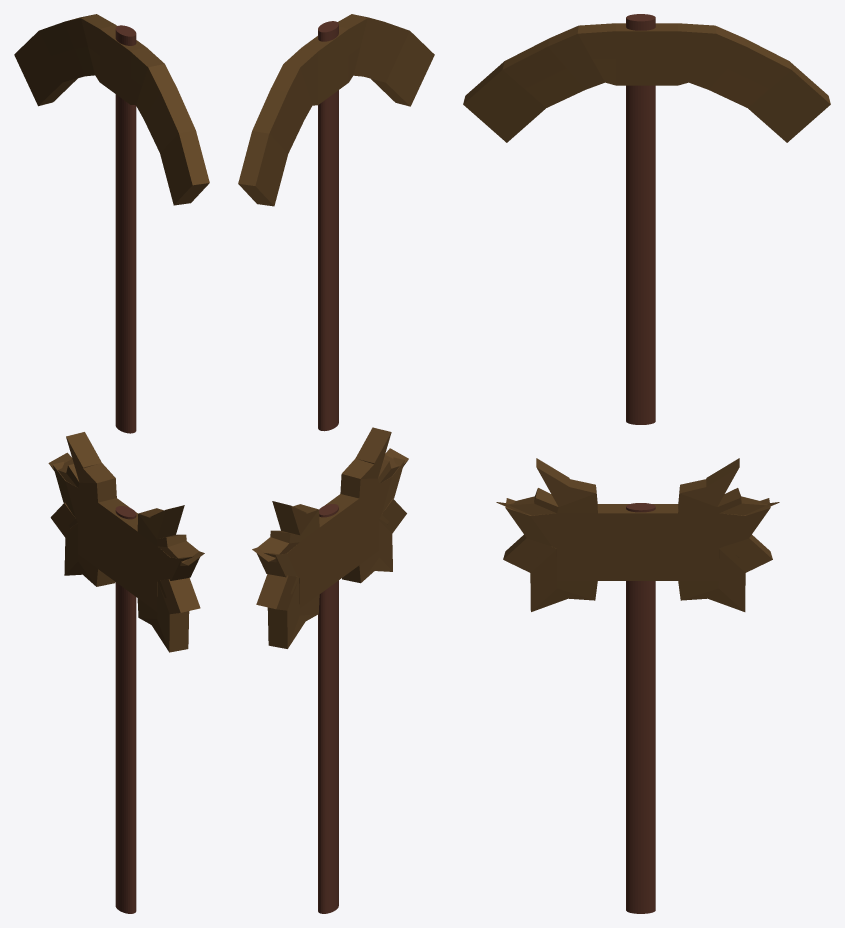
Rendered from axe+pickaxe.fbx.
3 views of the same model, side by side, from view 1: azimuth 30°, elevation 25°; view 2: azimuth 150°, elevation 25°; view 3: azimuth 270°, elevation 25° (orthographic).
Parts seen in each view (by area): view 1: Axe, Pickaxe, Cylinder.001, Cylinder; view 2: Axe, Pickaxe, Cylinder.001, Cylinder; view 3: Axe, Pickaxe, Cylinder.001, Cylinder.
Boxes of the visible parts, box(x1,y1,x2,y2) form: Axe: box(48, 432, 204, 652); Pickaxe: box(14, 14, 209, 205); Cylinder.001: box(115, 25, 136, 433); Cylinder: box(115, 506, 136, 913); Axe: box(252, 427, 408, 648); Pickaxe: box(238, 14, 434, 206); Cylinder.001: box(318, 21, 338, 431); Cylinder: box(318, 504, 338, 913); Axe: box(496, 458, 779, 611); Pickaxe: box(463, 23, 830, 142); Cylinder.001: box(626, 14, 655, 424); Cylinder: box(626, 503, 655, 913).
Bounding box in the file's own units: 10.79 × 306 × 114.
